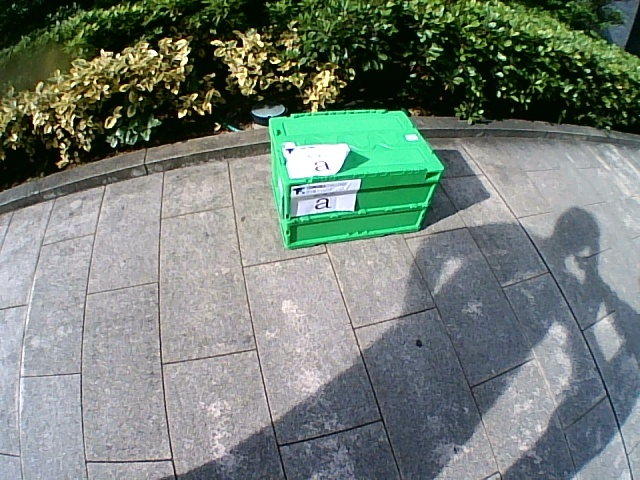blue_box: (268, 110, 443, 249)
tag_b: (292, 186, 353, 212), (290, 146, 339, 174)
